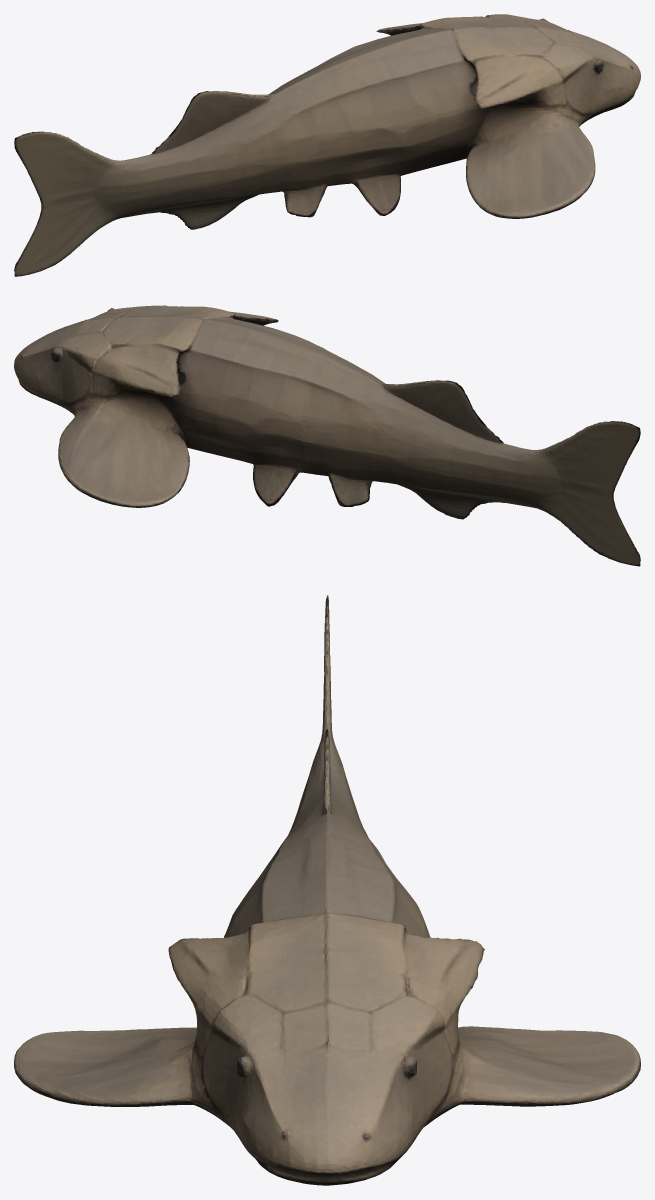
3 views of the same model, one above another, from view 1: azimuth 30°, elevation 25°; view 2: azimuth 150°, elevation 25°; view 3: azimuth 270°, elevation 25° (orthographic). The views are drawn at different scales.
Visible parts, largest first — view 1: world; view 2: world; view 3: world.
Part boxes in pixels (x1,y1,x2,y2): world: (14, 14, 640, 276); world: (14, 305, 640, 566); world: (14, 595, 640, 1185).
Bounding box in the file's own units: 1 × 0.2198 × 0.5813.
Materials: 1 (1 with a texture image).
